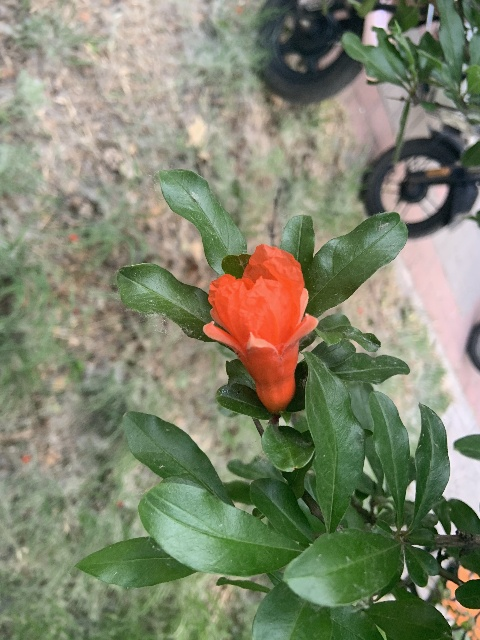flower: (203, 244, 317, 413)
